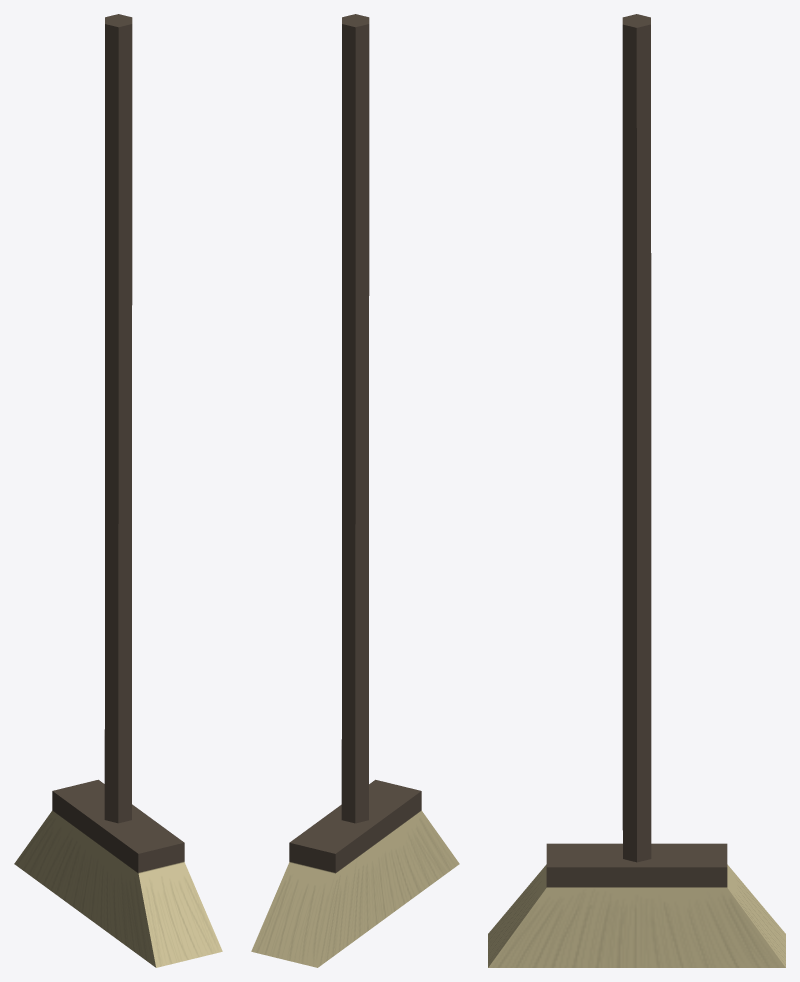
File: Broom.fbx
3 renders of one model, left to right at view 1: azimuth 30°, elevation 25°; view 2: azimuth 150°, elevation 25°; view 3: azimuth 270°, elevation 25°, orthographic. The views are drawn at different scales.
Parts seen in each view (by area): view 1: Broom; view 2: Broom; view 3: Broom.
Boxes of the visible parts, bbox=[...] form: Broom: bbox=[14, 14, 222, 967]; Broom: bbox=[251, 14, 459, 967]; Broom: bbox=[488, 14, 785, 967].
Bounding box in the file's own units: 89.43 × 330 × 1137.
